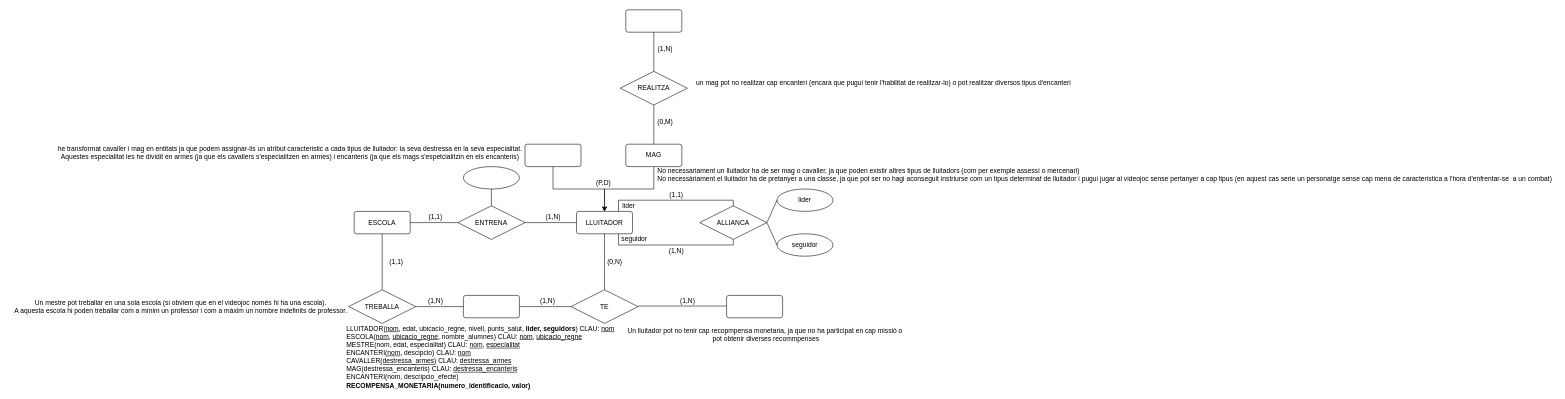
Image size: 1565x399. Some labels were removed from this diagram. Each missing label, with the centre of its shape:
anys: point (491, 177)
CAVALLER: point (552, 155)
ENCANTERI: point (653, 20)
MESTRE: point (491, 306)
RECOMPENSA_ MONETARIA: point (754, 306)
